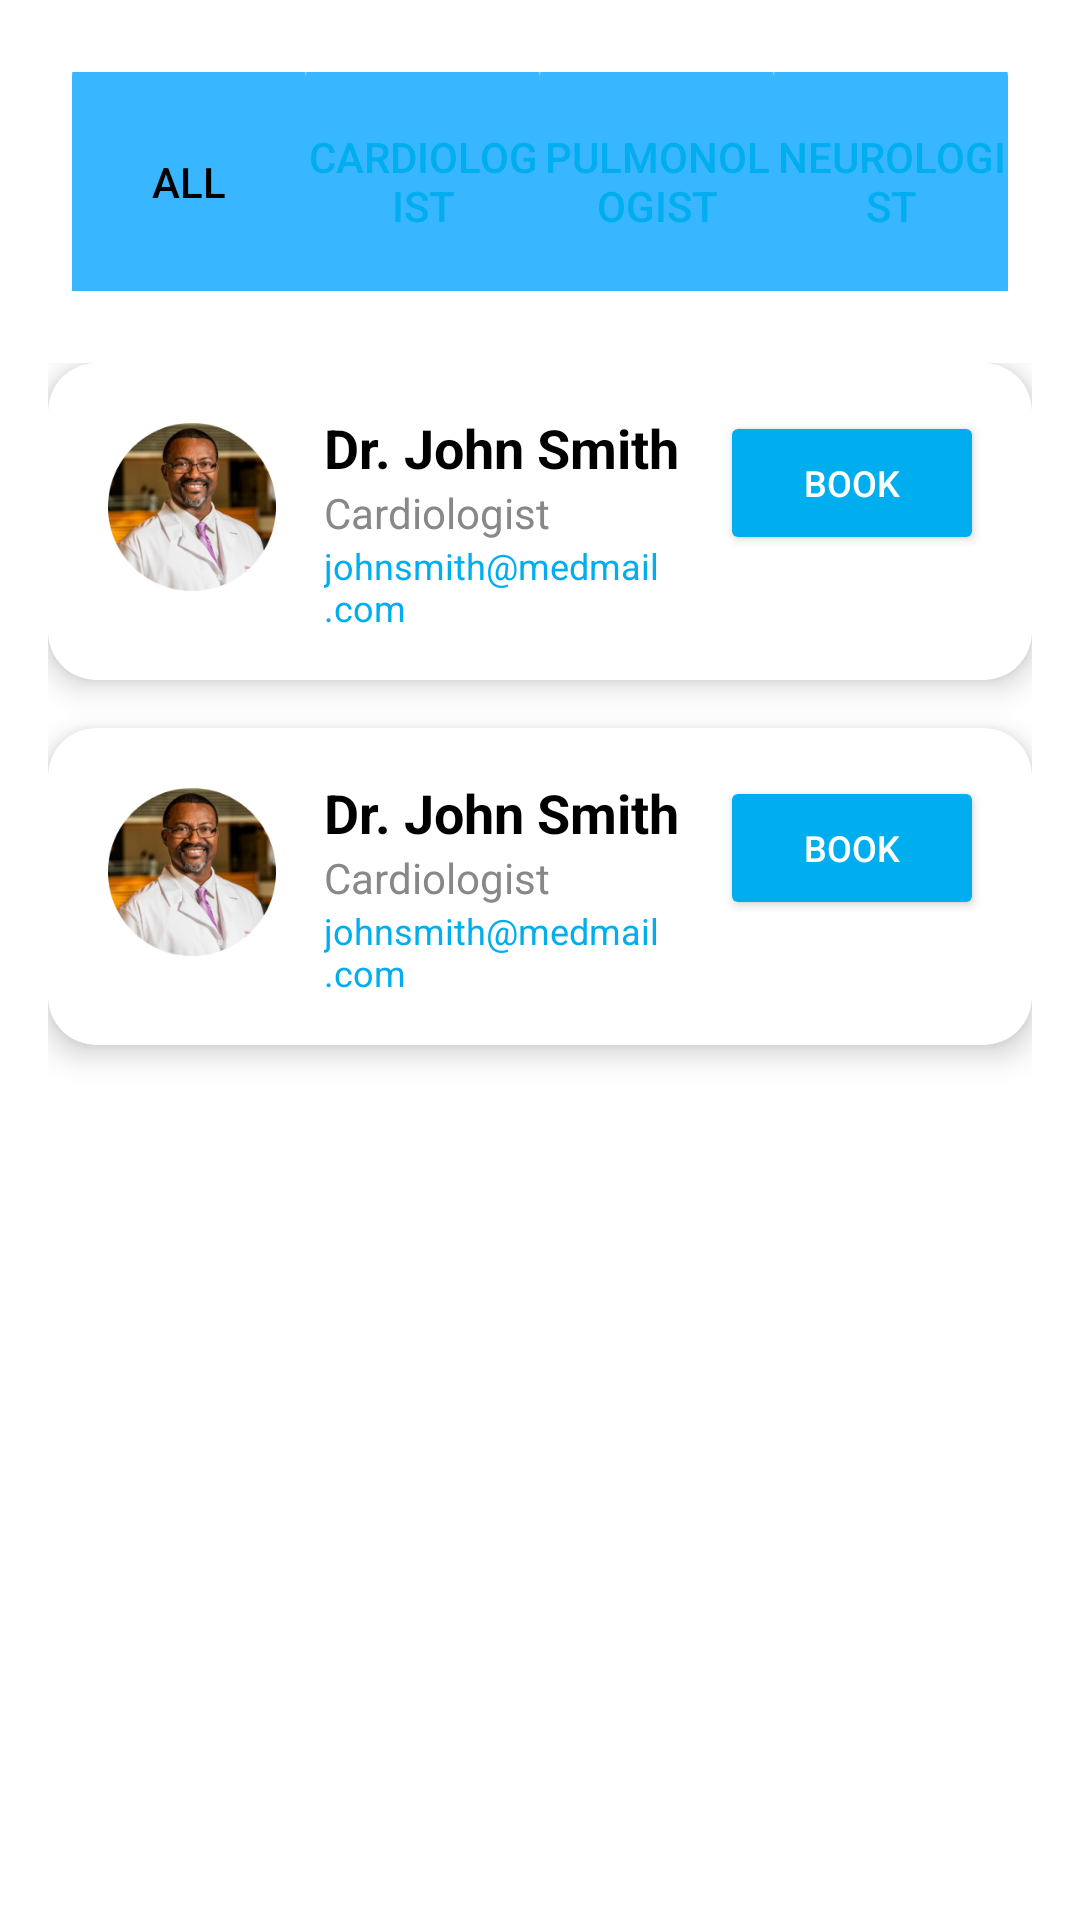

Icons on this 1080px×1920px Android screen, each with the point to tap as point (x, y):
Doctor Image: point (192, 507), point (192, 872)
